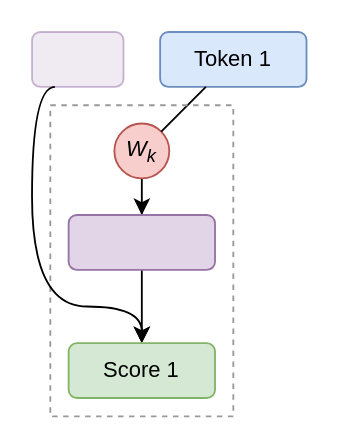
Image size: 339x448. Some labels were removed from this diagram. The shapes that lost their labels are listed below. From the top down, each one's box as (x1, y1, x2, y2) in pixels, then its label:
(30, 30, 124, 87): Query Vector
(67, 213, 215, 270): Key 1
